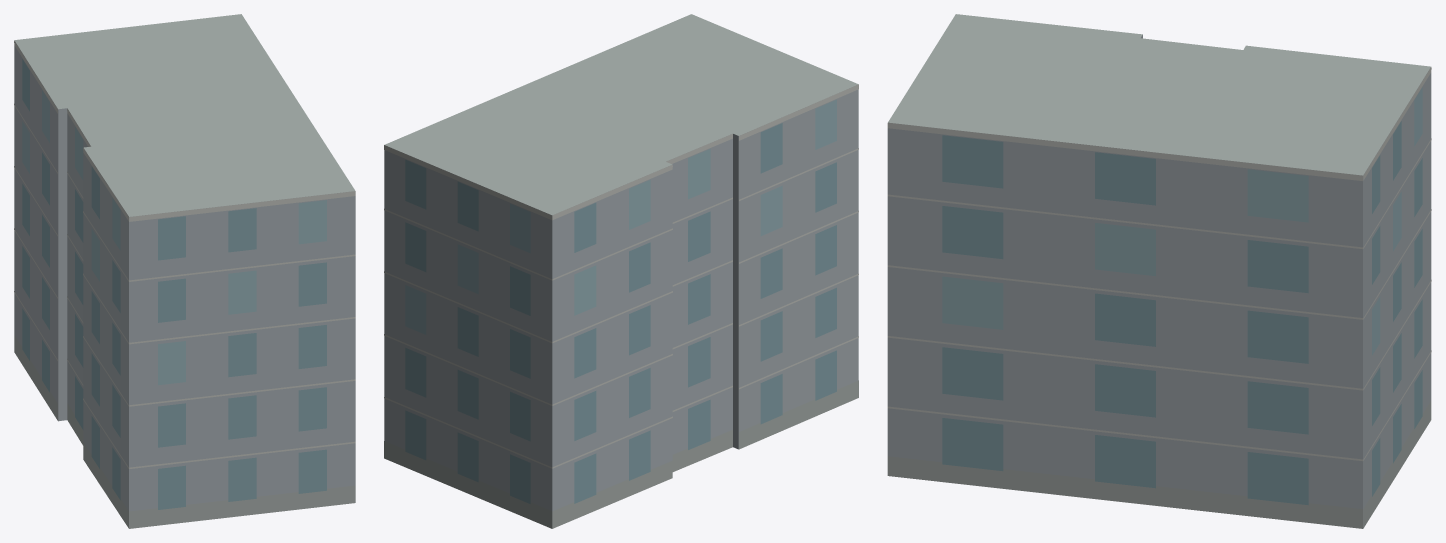
File: survey-upis-32822875.glb
3 views of the same model, side by side, from view 1: azimuth 30°, elevation 25°; view 2: azimuth 150°, elevation 25°; view 3: azimuth 270°, elevation 25° (orthographic). The views are drawn at different scales.
Visible parts, largest first — view 1: survey-upis-32822875.tmp; view 2: survey-upis-32822875.tmp; view 3: survey-upis-32822875.tmp.
Boxes of the visible parts, box(x1,y1,x2,y2) form: survey-upis-32822875.tmp: box(14, 14, 355, 528); survey-upis-32822875.tmp: box(384, 14, 858, 528); survey-upis-32822875.tmp: box(887, 14, 1431, 528).
Bounding box in the file's own units: 14.98 × 15.25 × 21.28.
